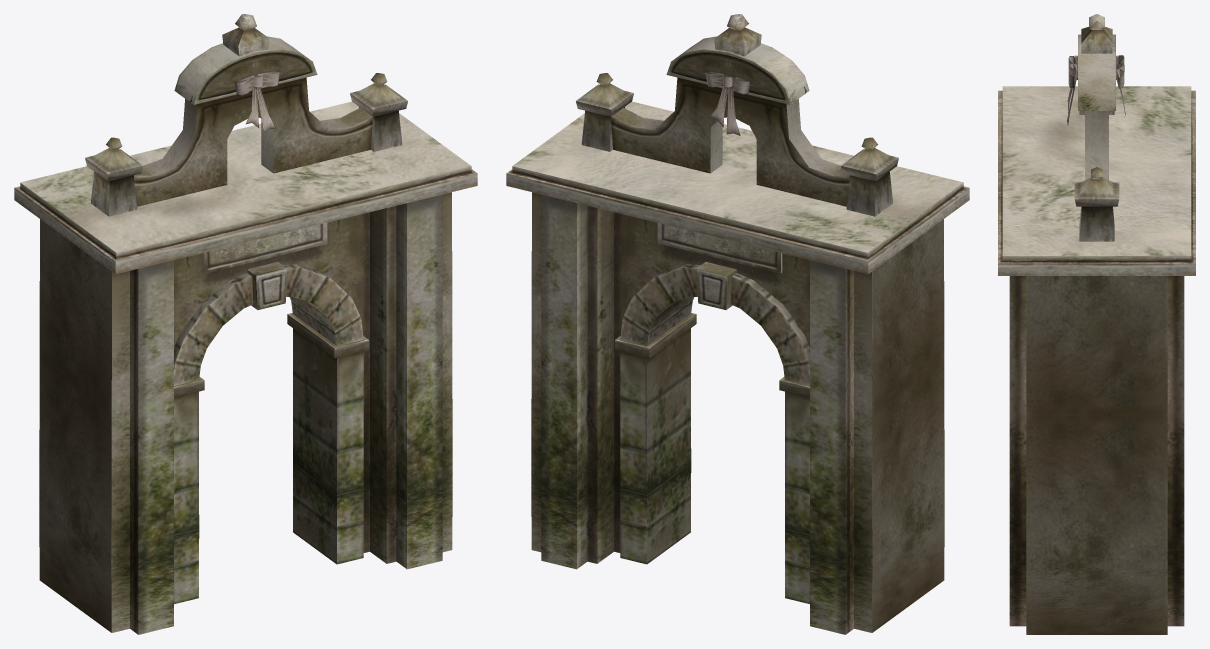
Rendered from pir_m_bld_wal_spanish_archA.fbx.
The picture shows the model from 3 angles, left to right: view 1: azimuth 30°, elevation 25°; view 2: azimuth 150°, elevation 25°; view 3: azimuth 270°, elevation 25°; orthographic projection. The views are drawn at different scales.
Visible parts, largest first — view 1: arch_base, arch_top, arch_main, arch_maintop, arch_base1, arch_main1, arch_top_detail_A2, sign, arch_top_detail_A, arch_keystone1, arch_topdetail_C; view 2: arch_base, arch_top, arch_main, arch_maintop, arch_base1, arch_main1, arch_top_detail_A2, sign1, arch_top_detail_A, arch_keystone1, arch_topdetail_C; view 3: arch_base, arch_top, arch_base1, arch_maintop, arch_top_detail_A, arch_topdetail_C.
Part boxes in pixels (<box>): arch_base: <box>39,192,452,564</box>; arch_top: <box>14,101,477,274</box>; arch_main: <box>174,264,368,534</box>; arch_maintop: <box>134,36,372,206</box>; arch_base1: <box>39,480,452,634</box>; arch_main1: <box>174,463,363,604</box>; arch_top_detail_A2: <box>85,148,142,216</box>; sign: <box>201,222,327,273</box>; arch_top_detail_A: <box>350,83,407,151</box>; arch_keystone1: <box>247,262,287,309</box>; arch_topdetail_C: <box>222,27,269,56</box>; arch_base: <box>531,192,944,564</box>; arch_top: <box>506,101,969,274</box>; arch_main: <box>615,264,809,534</box>; arch_maintop: <box>611,36,849,206</box>; arch_base1: <box>531,480,944,634</box>; arch_main1: <box>620,462,809,603</box>; arch_top_detail_A2: <box>841,148,898,216</box>; sign1: <box>657,223,782,273</box>; arch_top_detail_A: <box>576,83,633,151</box>; arch_keystone1: <box>696,262,736,309</box>; arch_topdetail_C: <box>714,27,761,56</box>; arch_base: <box>1009,276,1184,566</box>; arch_top: <box>998,86,1195,275</box>; arch_base1: <box>1009,558,1184,634</box>; arch_maintop: <box>1078,34,1115,179</box>; arch_top_detail_A: <box>1074,177,1119,241</box>; arch_topdetail_C: <box>1081,27,1112,53</box>.
Size of the model in its own units: 2442 by 3552 by 1181.
Materials: 2 (2 with a texture image).
